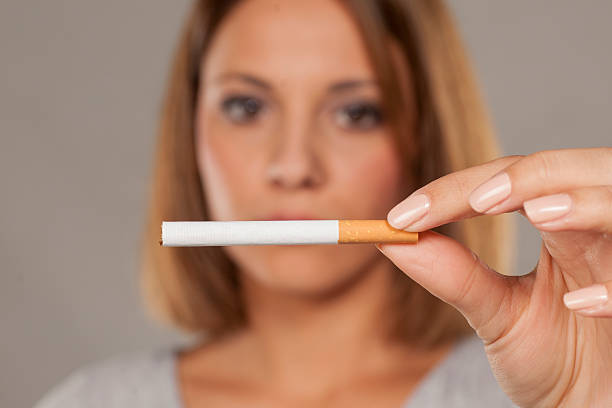cigarette: (159, 217, 417, 248)
